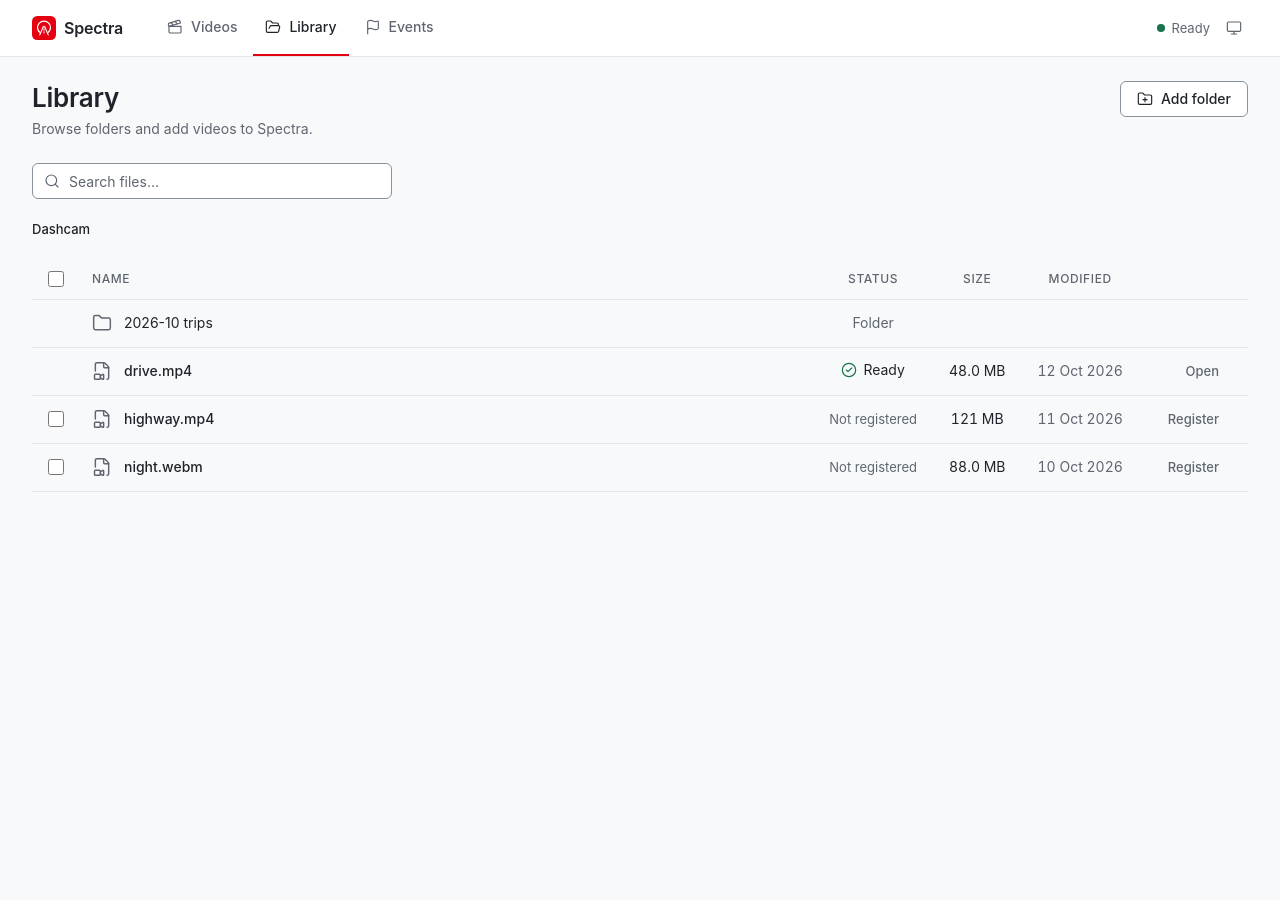
it: library browsing › registers one video in place and refreshes the listing
This screenshot has width=1280, height=900.
Click the button with aria-label "Register highway.mp4": (1193, 419) [1155,405,1232,433]
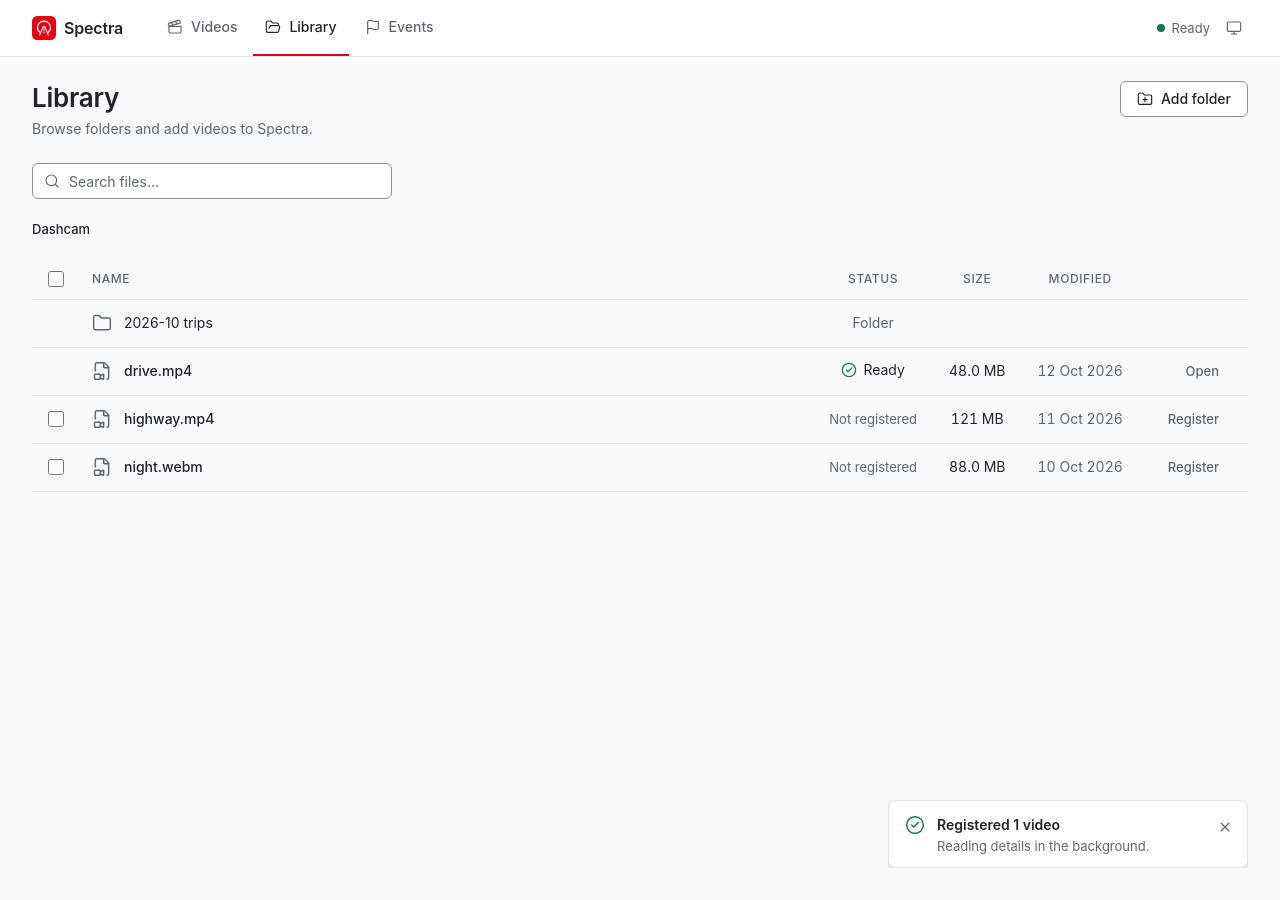
Now the text "Registered 1 video" is shown, box [937,816,1060,833]
